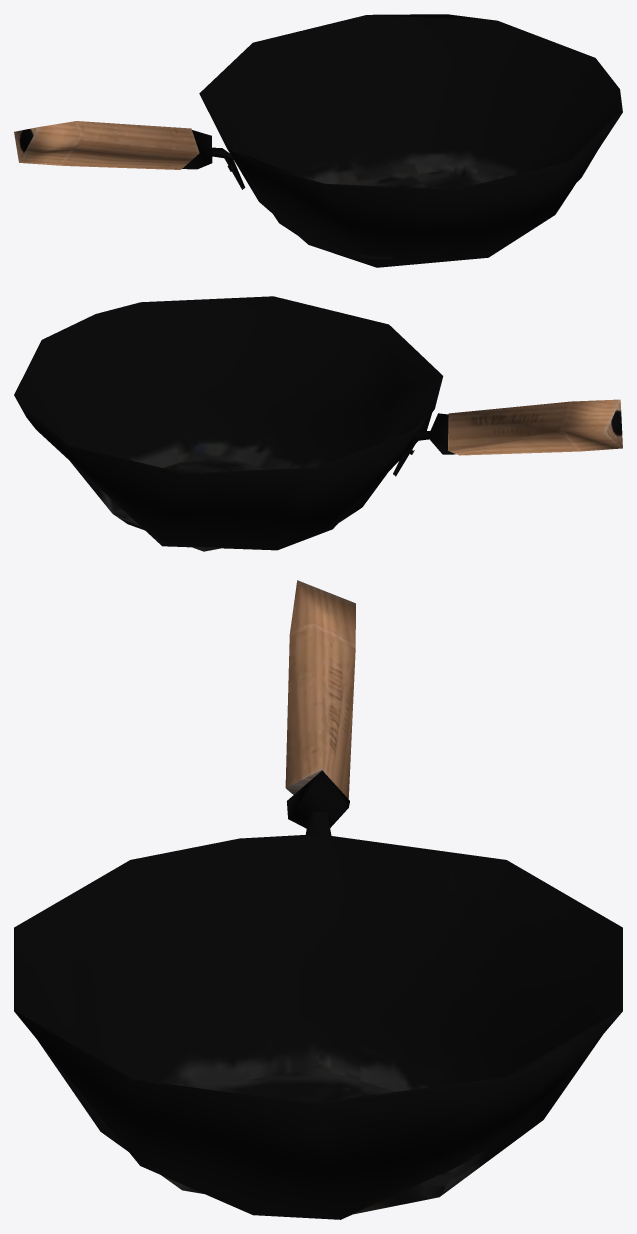
File: Wok.glb
3 views of the same model, one above another, from view 1: azimuth 30°, elevation 25°; view 2: azimuth 150°, elevation 25°; view 3: azimuth 270°, elevation 25° (orthographic). The views are drawn at different scales.
Parts seen in each view (by area): view 1: Obj3d66-19479626-1-227; view 2: Obj3d66-19479626-1-227; view 3: Obj3d66-19479626-1-227.
Boxes of the visible parts, x1,y1,x2,y2 form: Obj3d66-19479626-1-227: (14, 14, 622, 267); Obj3d66-19479626-1-227: (14, 296, 622, 551); Obj3d66-19479626-1-227: (14, 580, 622, 1219).
Size of the model in its own units: 1.35 by 0.4275 by 0.8235.
Materials: 1 (1 with a texture image).
